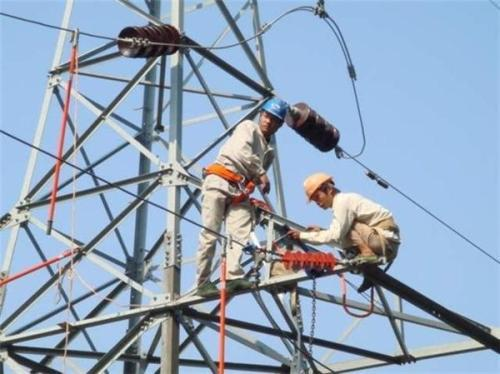helmet: (255, 92, 296, 136), (300, 170, 341, 211)
